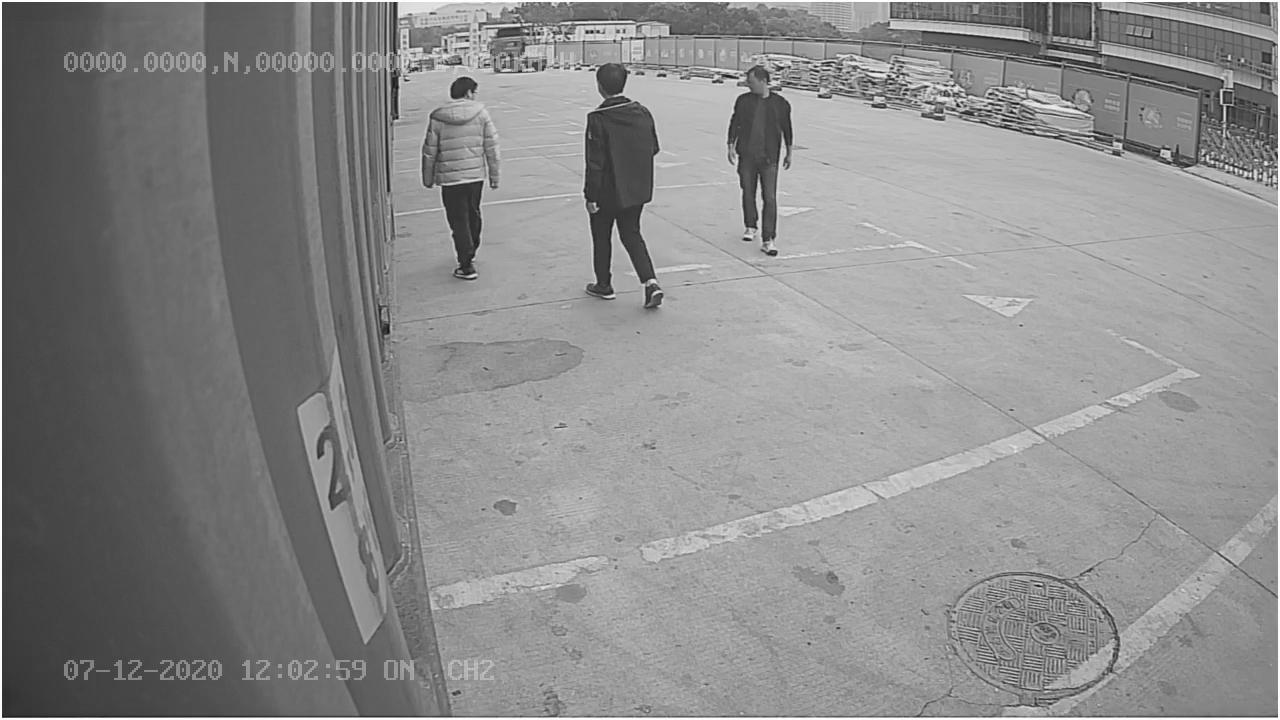person: (580, 62, 669, 312)
